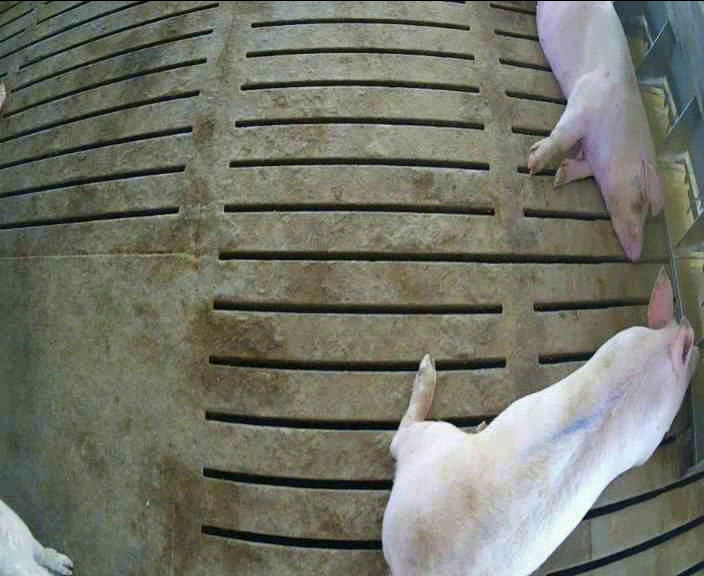pig: (382, 266, 696, 573), (529, 2, 663, 260)
